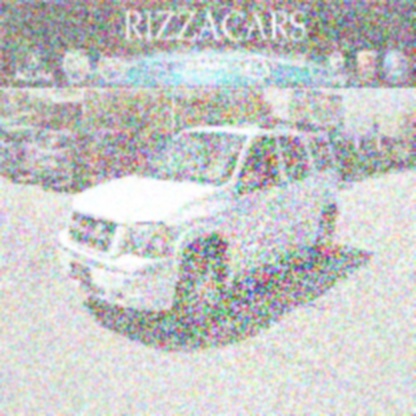Vehicle: (50, 124, 345, 339)
